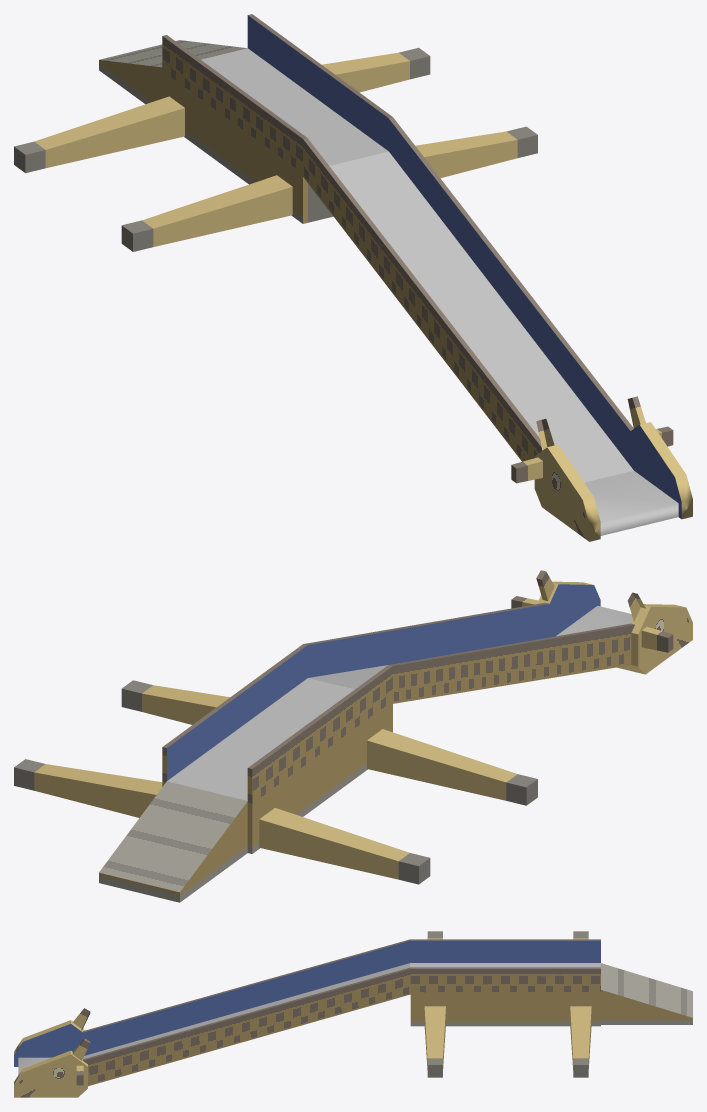
Rendered from 0529_Giraffe_Slide.glb.
3 renders of one model, top to bottom at view 1: azimuth 30°, elevation 25°; view 2: azimuth 150°, elevation 25°; view 3: azimuth 270°, elevation 25°, orthographic. The views are drawn at different scales.
Parts seen in each view (by area): view 1: part_0; view 2: part_0; view 3: part_0.
Part boxes in pixels (x1,y1,x2,y2): part_0: (14, 14, 692, 541); part_0: (14, 570, 692, 902); part_0: (14, 931, 692, 1097).
Size of the model in its own units: 1.79 by 0.79 by 3.85.
1 material, 1 textured.
